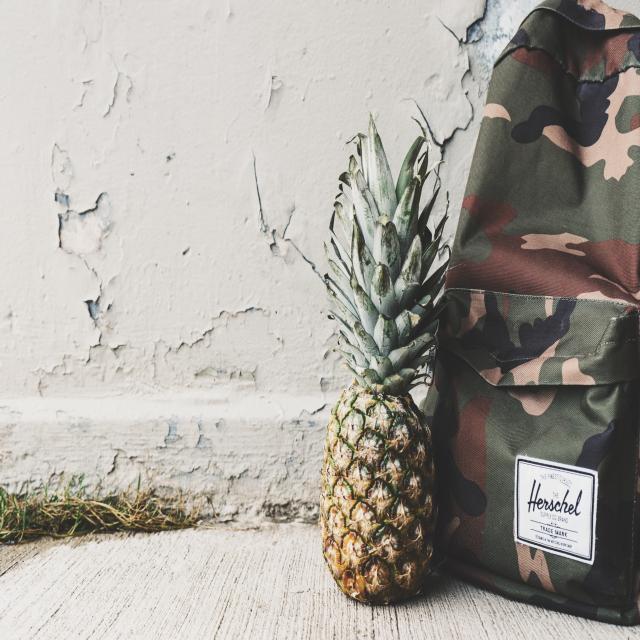backpack: (417, 0, 640, 629)
